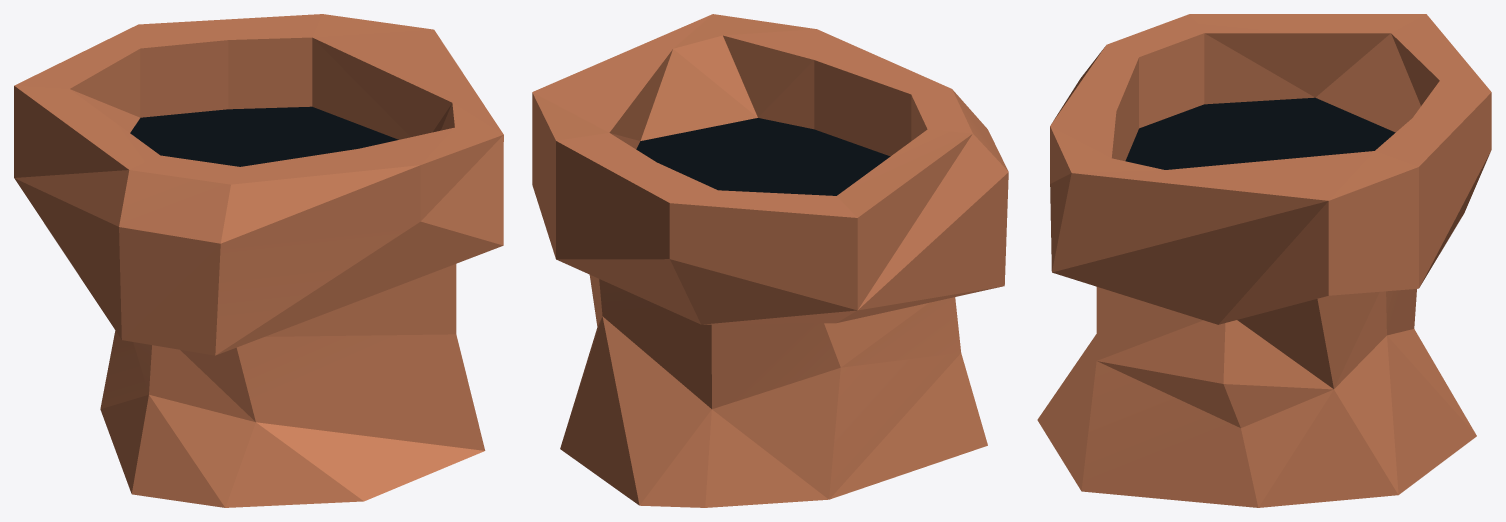
Rendered from Bag.fbx.
3 views of the same model, side by side, from view 1: azimuth 30°, elevation 25°; view 2: azimuth 150°, elevation 25°; view 3: azimuth 270°, elevation 25° (orthographic). The views are drawn at different scales.
Parts seen in each view (by area): view 1: Bag; view 2: Bag; view 3: Bag.
Boxes of the visible parts, x1,y1,x2,y2 form: Bag: (14, 14, 503, 507); Bag: (532, 14, 1008, 507); Bag: (1037, 14, 1491, 507).
Size of the model in its own units: 16.24 by 12.42 by 15.72.
